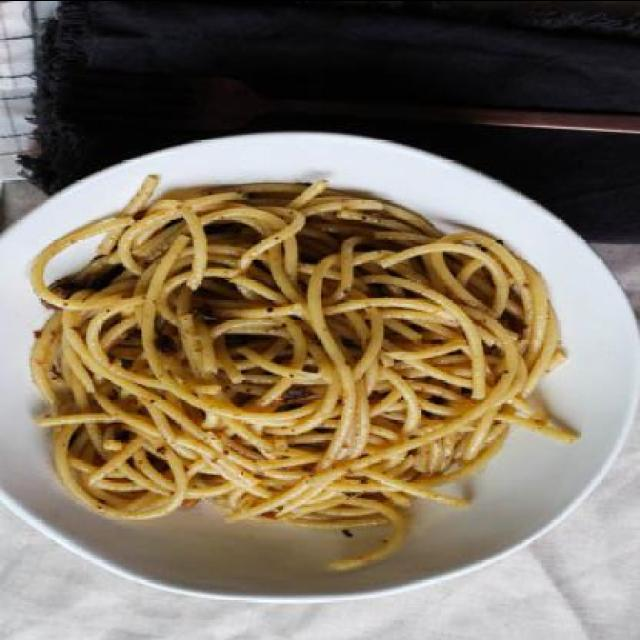Oil pasta: (59, 176, 570, 553)
